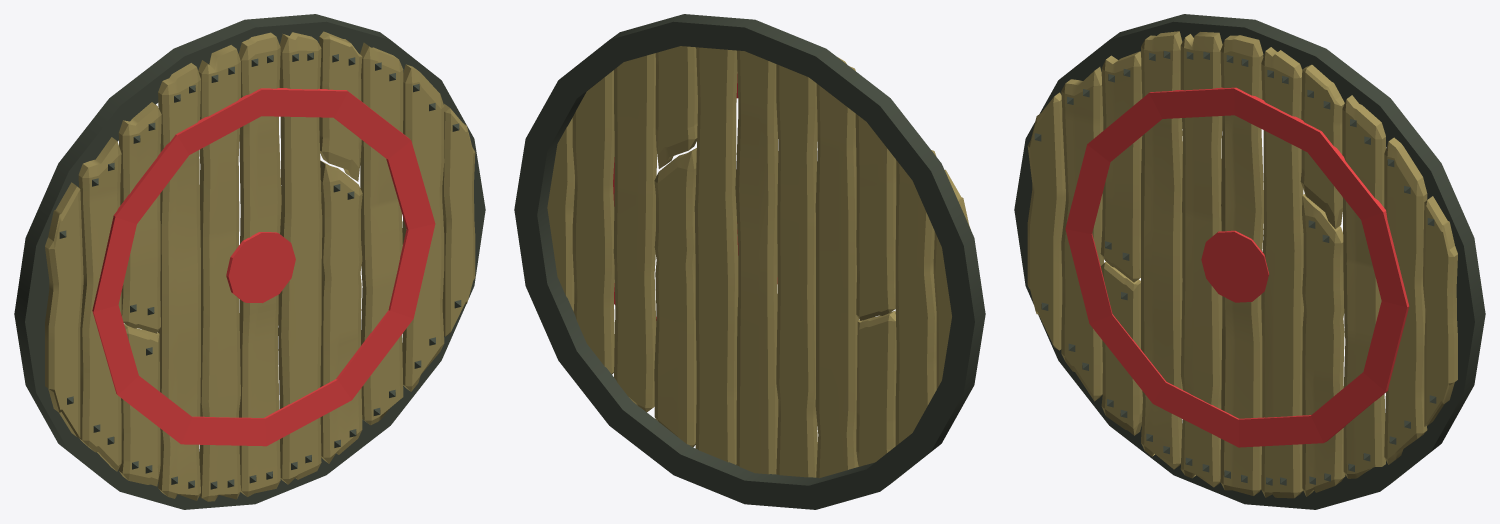
File: Mesh_Tarjet.fbx
The picture shows the model from 3 angles, left to right: view 1: azimuth 30°, elevation 25°; view 2: azimuth 150°, elevation 25°; view 3: azimuth 330°, elevation 25°; orthographic projection.
Visible parts, largest first — view 1: polySurface3404; view 2: polySurface3404; view 3: polySurface3404.
Part boxes in pixels (<box>): polySurface3404: <box>14,14,485,509</box>; polySurface3404: <box>514,14,985,509</box>; polySurface3404: <box>1014,14,1485,509</box>.
Size of the model in its own units: 201 by 198 by 15.86.
